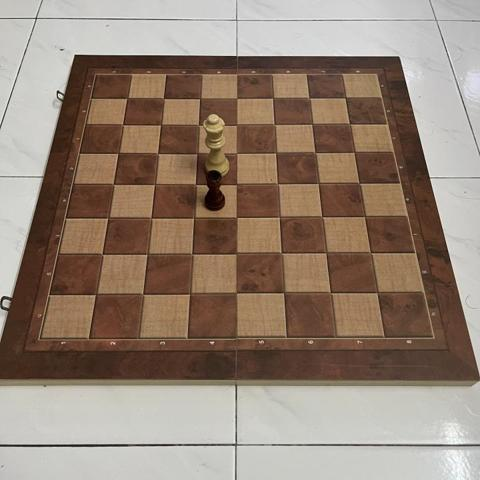xcorner: (338, 89, 355, 106), (119, 88, 136, 105), (342, 115, 359, 132), (191, 115, 208, 132), (357, 208, 374, 225), (229, 208, 246, 225), (186, 208, 203, 225), (143, 208, 160, 225), (100, 208, 117, 225), (182, 285, 199, 302), (135, 285, 152, 302), (88, 285, 105, 302), (265, 89, 282, 105), (192, 89, 209, 105), (305, 115, 321, 132), (267, 115, 283, 132), (229, 115, 245, 132), (153, 115, 170, 131), (115, 115, 132, 131), (268, 144, 285, 160), (229, 144, 246, 160), (150, 144, 167, 160), (311, 175, 328, 191), (270, 175, 287, 191), (229, 175, 246, 191), (315, 208, 331, 225), (272, 208, 288, 225), (363, 245, 380, 261), (229, 245, 246, 261), (184, 245, 201, 261), (276, 285, 293, 301), (229, 285, 246, 301), (302, 89, 318, 105), (229, 89, 245, 105), (156, 89, 172, 105), (347, 144, 363, 160), (308, 144, 324, 160), (190, 144, 206, 160), (111, 144, 127, 160), (352, 175, 368, 191), (188, 175, 204, 191), (147, 175, 163, 191), (106, 175, 122, 191), (319, 245, 335, 261), (274, 245, 290, 261), (140, 245, 156, 261), (95, 245, 111, 261), (370, 285, 386, 301), (323, 285, 339, 301)
